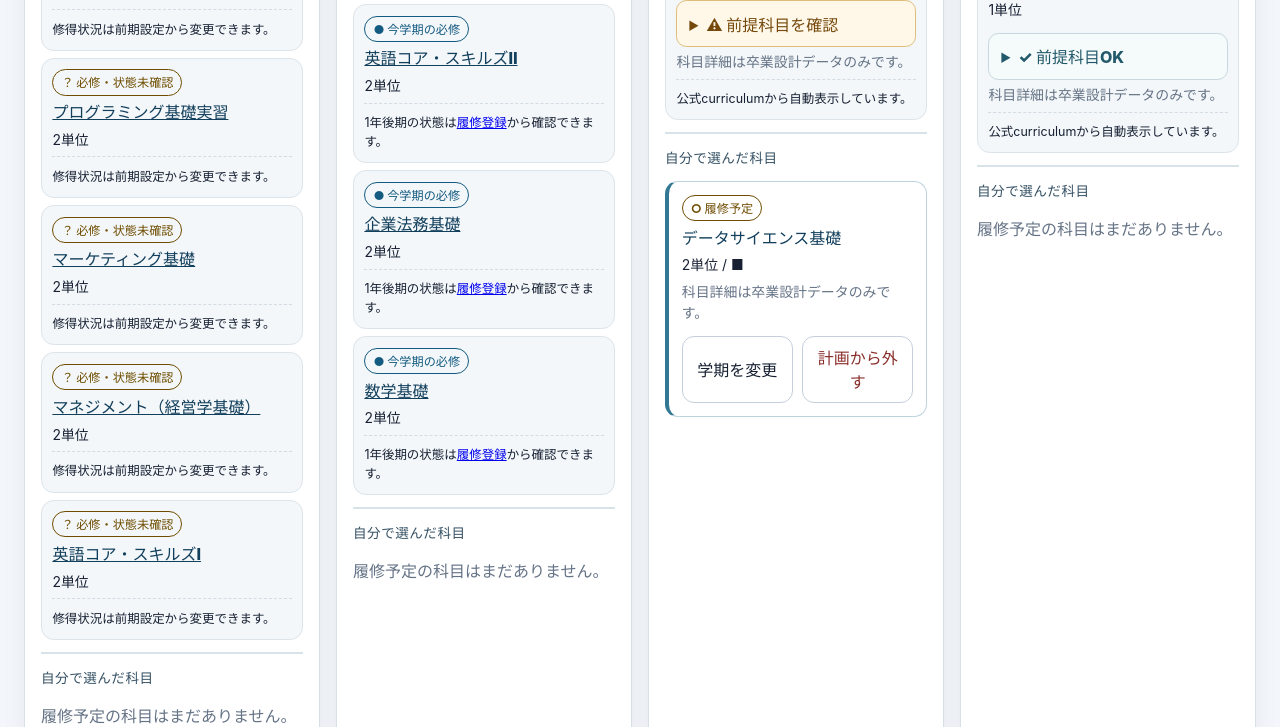
it: Phase 15B desktop-centered graduation planning UI › 計画から外す操作は確認前に削除せず、cancelと確定を扱う
(page scrolled)
Click the button "計画から外す" at (858, 369), box [802,336,913,403]
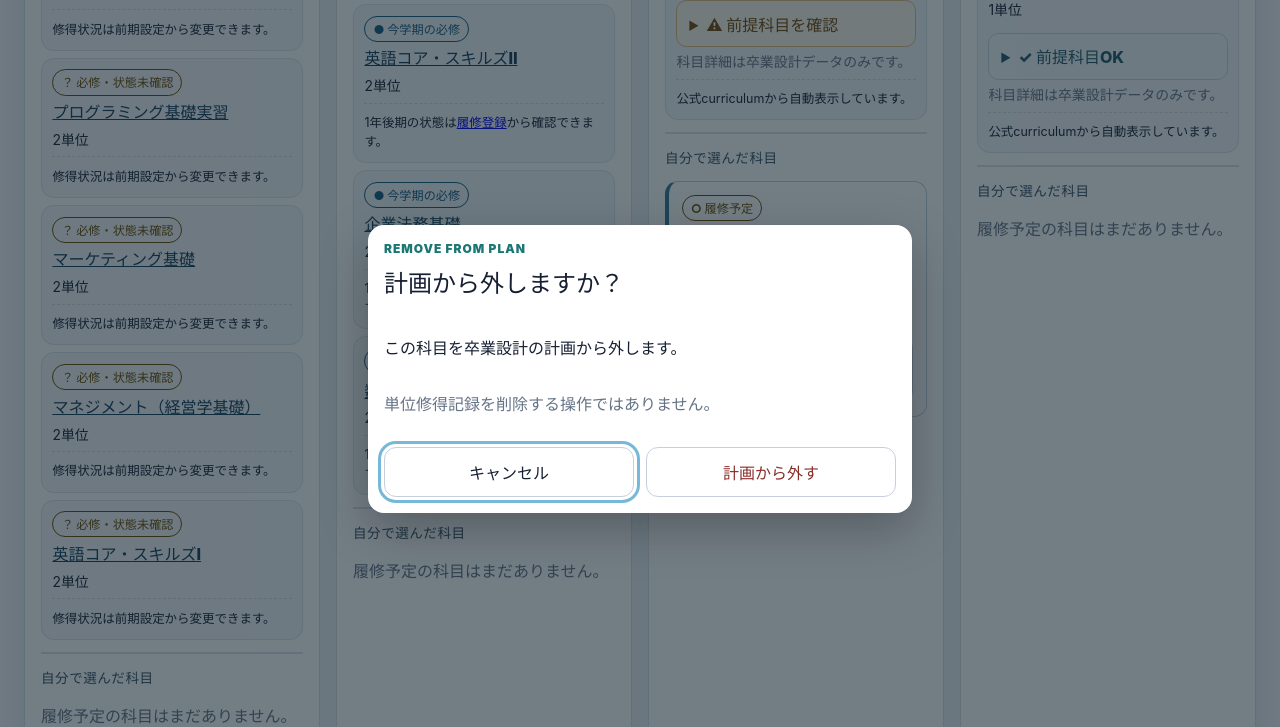
Check: the text "単位修得記録を削除する操作ではありません。" is shown, box [384,394,720,414]
Click the button "キャンセル" at (509, 472), box [384,446,634,496]
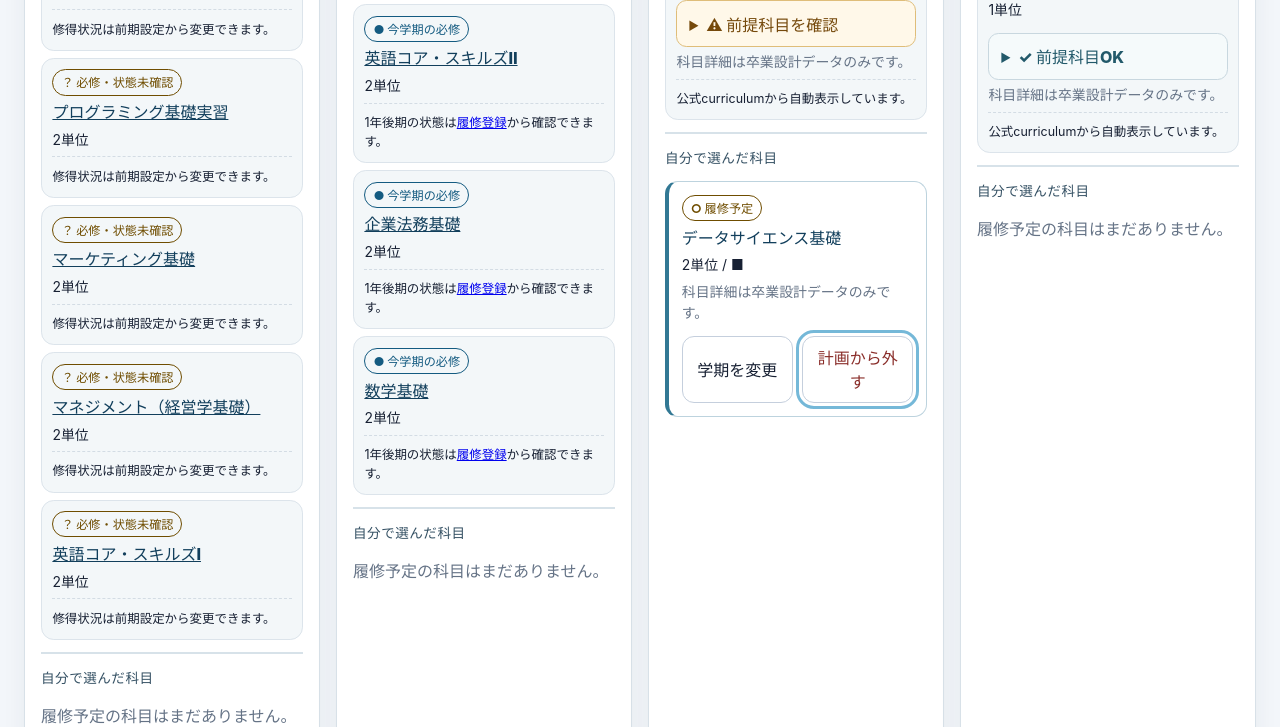
Click the button "計画から外す" at (858, 369), box [802,336,913,403]
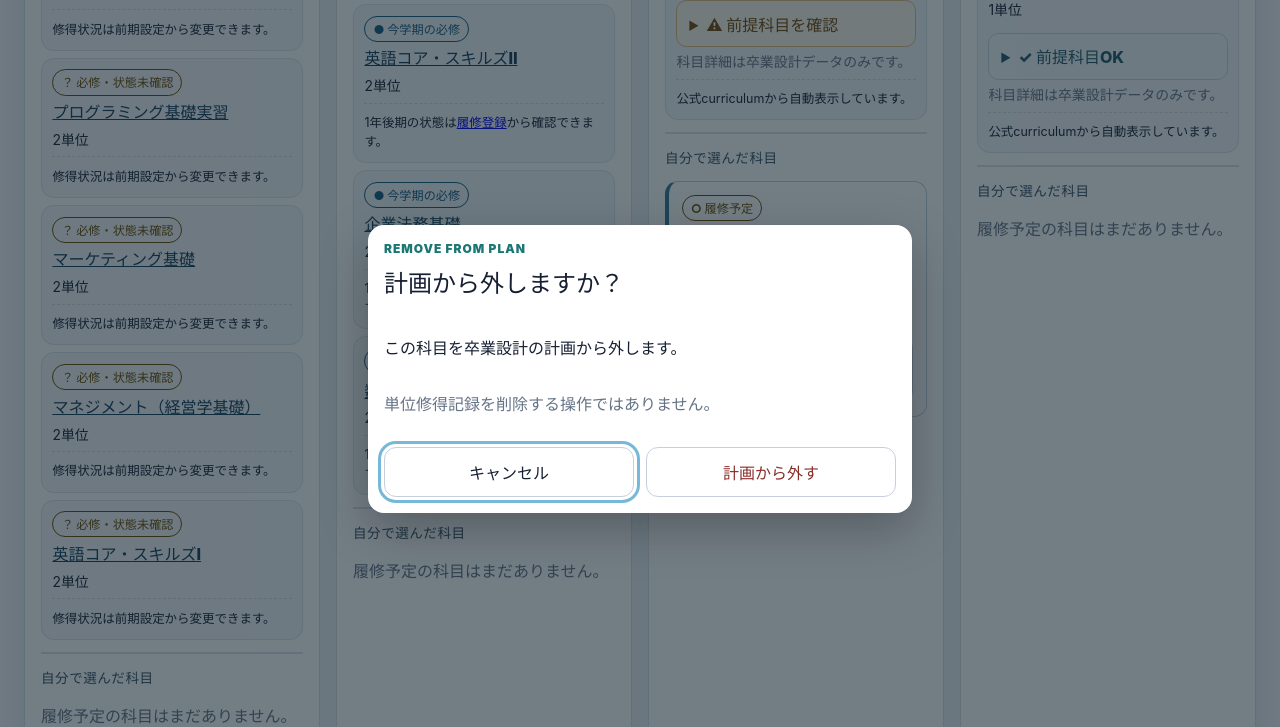
Click the button "計画から外す" at (771, 472), box [646,446,896,496]
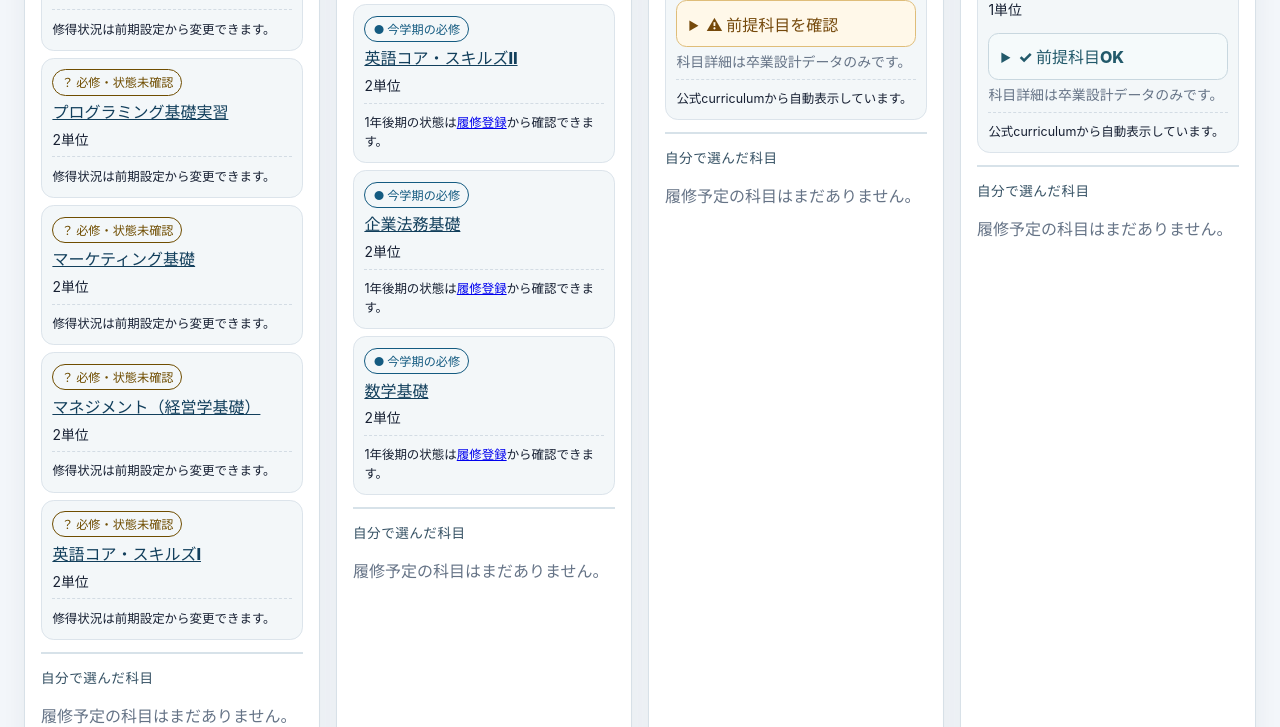
Check: the text "データサイエンス基礎" is gone
